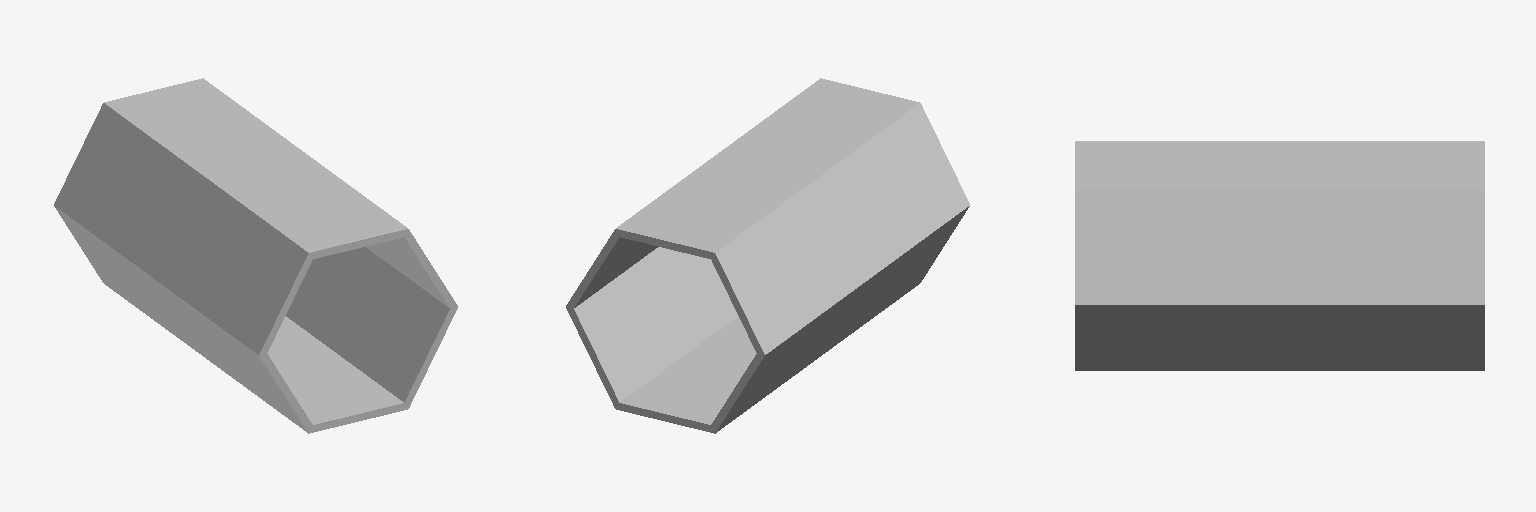
Rendered from background_test.obj.
3 renders of one model, left to right at view 1: azimuth 30°, elevation 25°; view 2: azimuth 150°, elevation 25°; view 3: azimuth 270°, elevation 25°, orthographic.
Visible parts, largest first — view 1: pPipe1; view 2: pPipe1; view 3: pPipe1.
Part boxes in pixels (bbox=[...]): pPipe1: bbox=[54, 78, 457, 433]; pPipe1: bbox=[566, 78, 969, 433]; pPipe1: bbox=[1075, 141, 1484, 370].
Bounding box in the file's own units: 12 × 10.39 × 21.4.